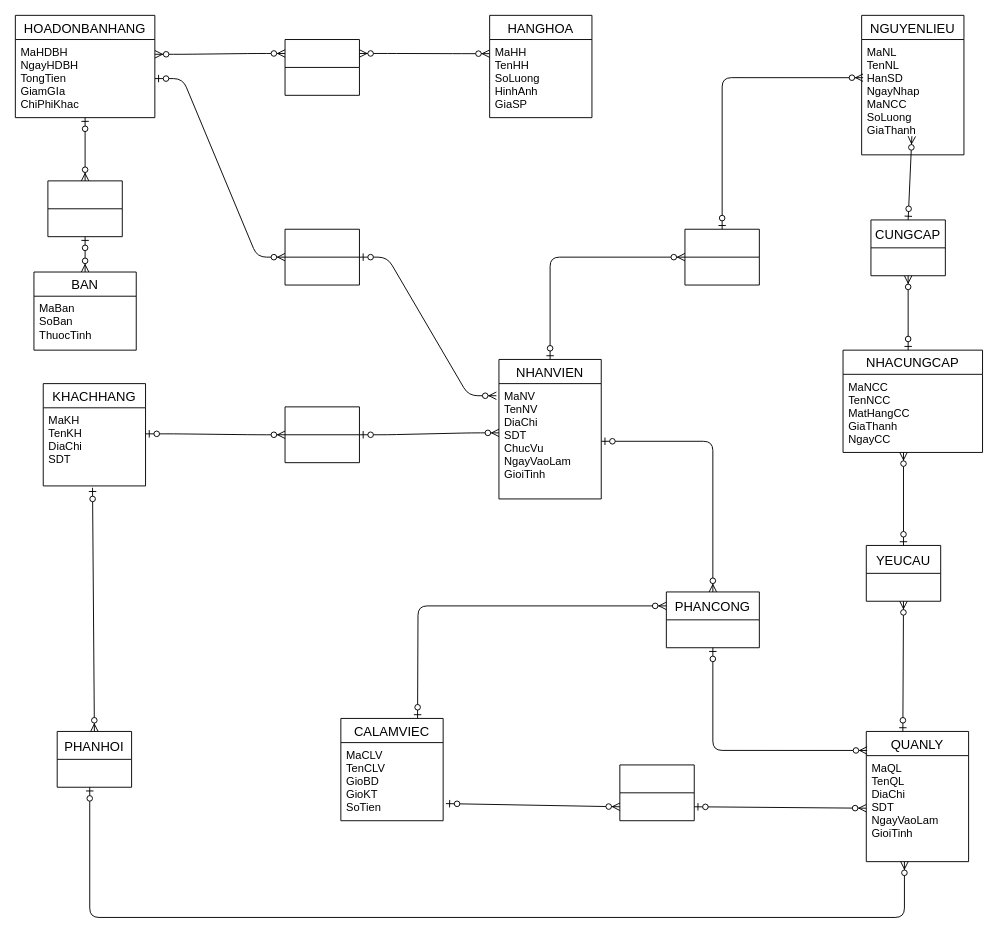
Image size: 998x933. Some labels were removed from this diagram. Here are the shapes that lost their labels. From the top down, the centre of each, then its label:
(x=321, y=67): CHUA
(x=84, y=208): THUOC
(x=321, y=256): TAO
(x=721, y=256): LAY
(x=321, y=434): TRADO
(x=656, y=792): XEP
